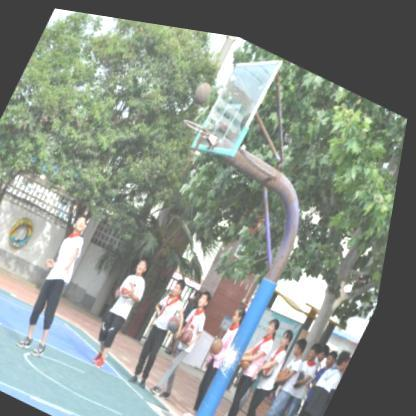basketball: (192, 72, 216, 100)
